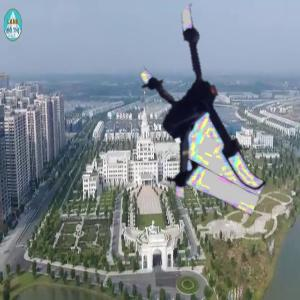drone: (106, 11, 294, 199)
